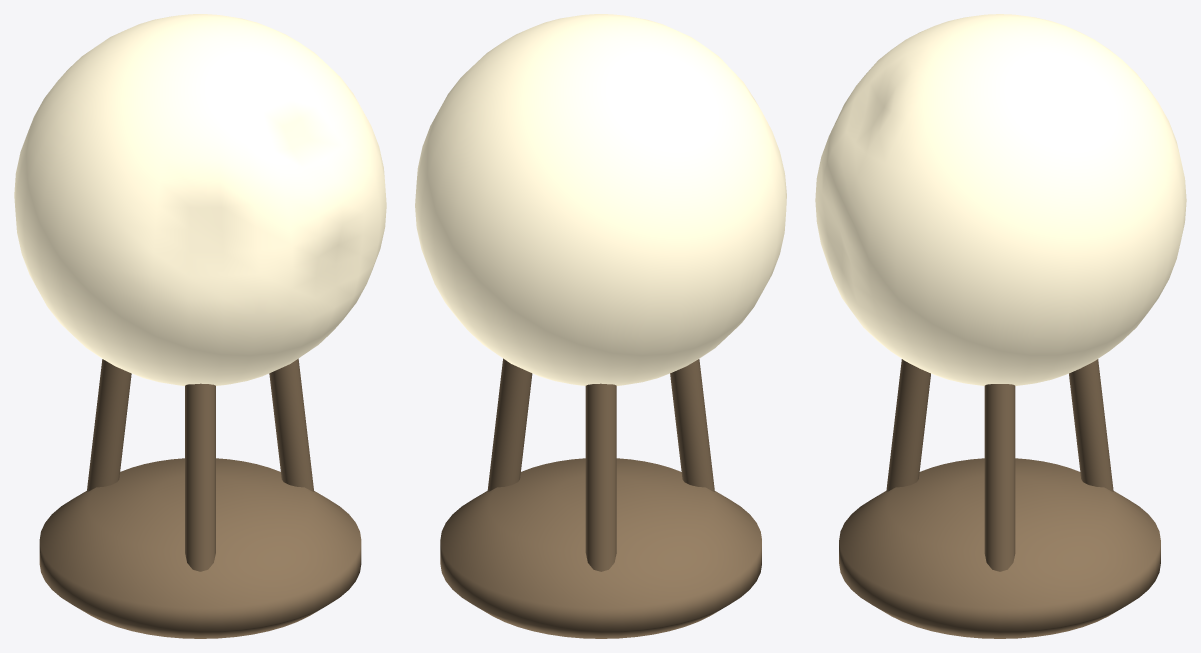
The model's file is moonlamp.glb.
3 views of the same model, side by side, from view 1: azimuth 30°, elevation 25°; view 2: azimuth 150°, elevation 25°; view 3: azimuth 270°, elevation 25° (orthographic).
Parts seen in each view (by area): view 1: single-sculpted-moon-globe, weighted-moon-cradle-base, receiving-moon-cradle-1, receiving-moon-cradle-0, receiving-moon-cradle-2; view 2: single-sculpted-moon-globe, weighted-moon-cradle-base, receiving-moon-cradle-2, receiving-moon-cradle-0, receiving-moon-cradle-1; view 3: single-sculpted-moon-globe, weighted-moon-cradle-base, receiving-moon-cradle-0, receiving-moon-cradle-2, receiving-moon-cradle-1.
Boxes of the visible parts, box(x1,y1,x2,y2) form: single-sculpted-moon-globe: box(14, 14, 386, 385); weighted-moon-cradle-base: box(39, 458, 361, 638); receiving-moon-cradle-1: box(185, 383, 215, 571); receiving-moon-cradle-0: box(269, 358, 314, 491); receiving-moon-cradle-2: box(86, 359, 131, 491); single-sculpted-moon-globe: box(415, 14, 786, 385); weighted-moon-cradle-base: box(440, 458, 761, 638); receiving-moon-cradle-2: box(585, 383, 616, 571); receiving-moon-cradle-0: box(487, 358, 532, 491); receiving-moon-cradle-1: box(670, 359, 714, 491); single-sculpted-moon-globe: box(815, 14, 1186, 385); weighted-moon-cradle-base: box(839, 458, 1160, 638); receiving-moon-cradle-0: box(984, 384, 1015, 571); receiving-moon-cradle-2: box(1069, 359, 1113, 491); receiving-moon-cradle-1: box(886, 359, 930, 491).
Bounding box in the file's own units: 0.29 × 0.4714 × 0.2885.
